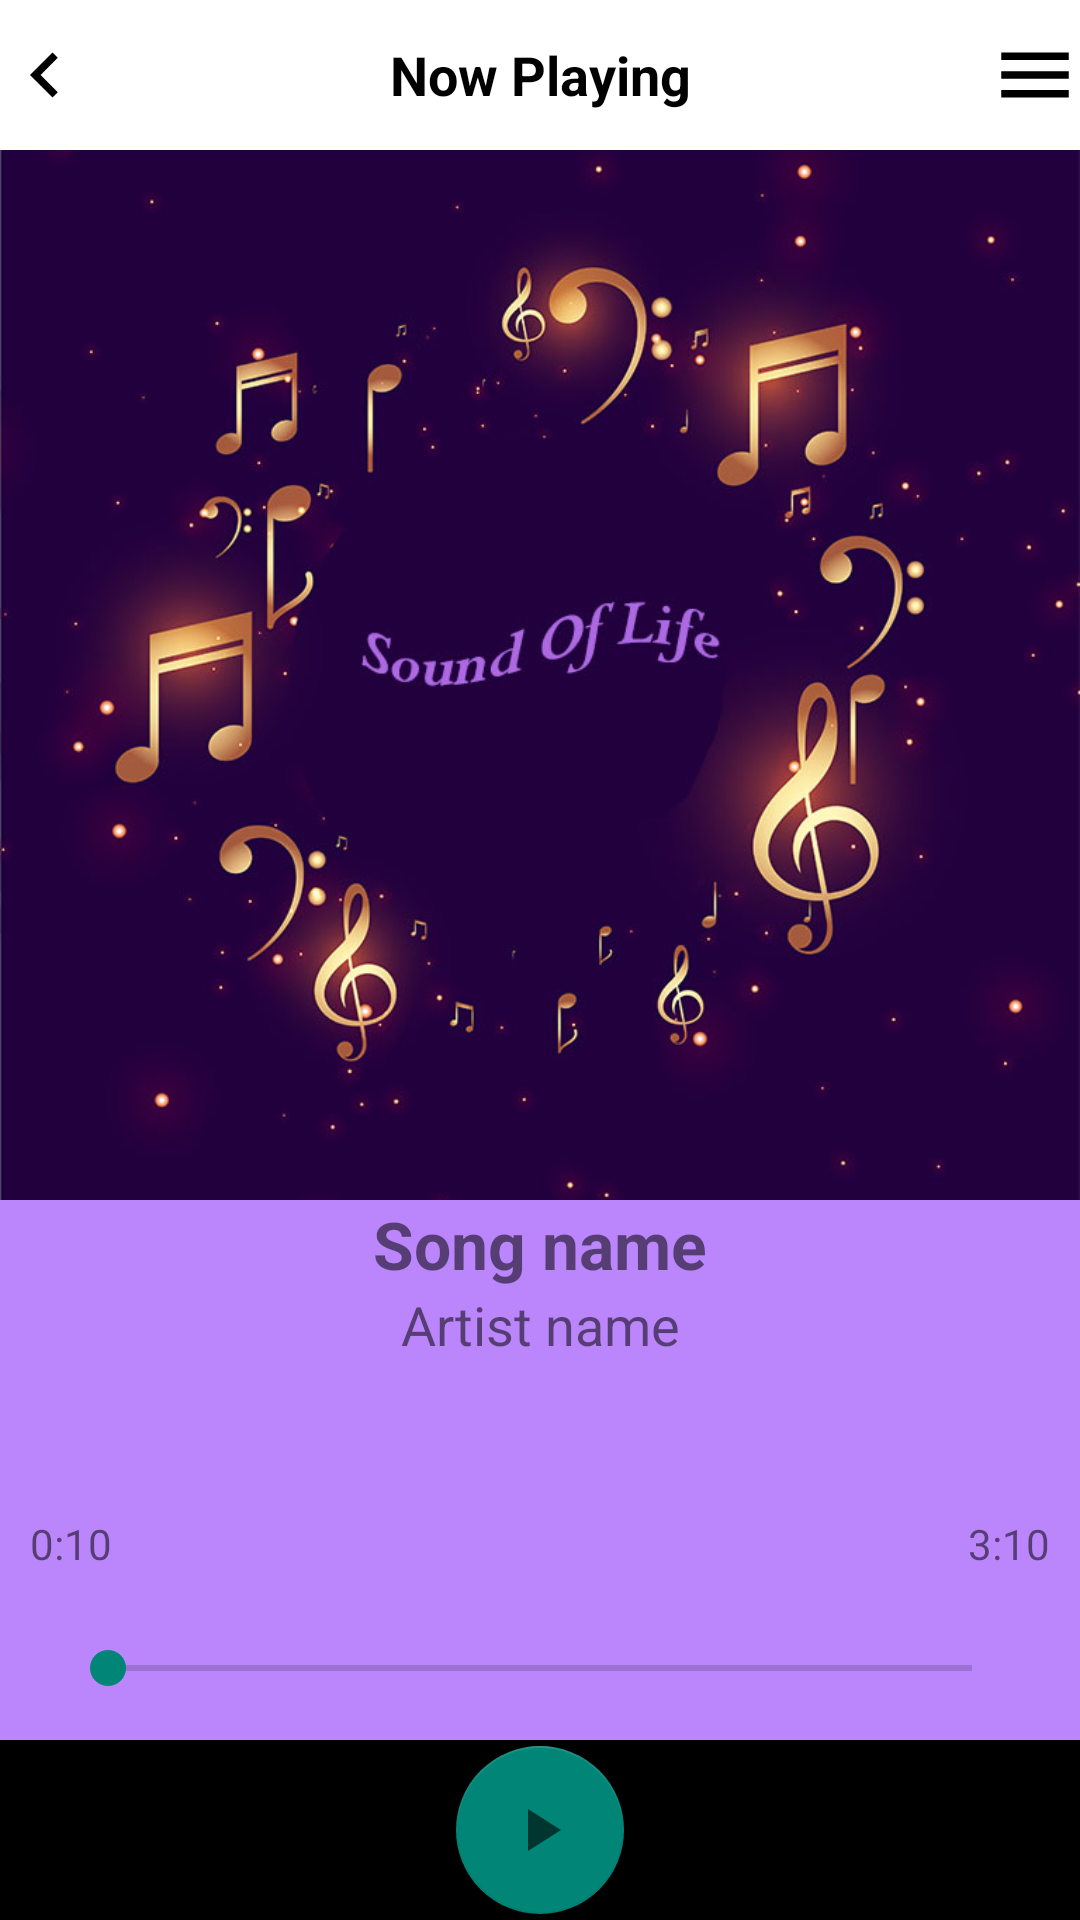

Where to tap for icons on this 1080x1920 app screen, as (x,y):
hevron left: (44,75)
menu: (1035,75)
play: (540,1830)
